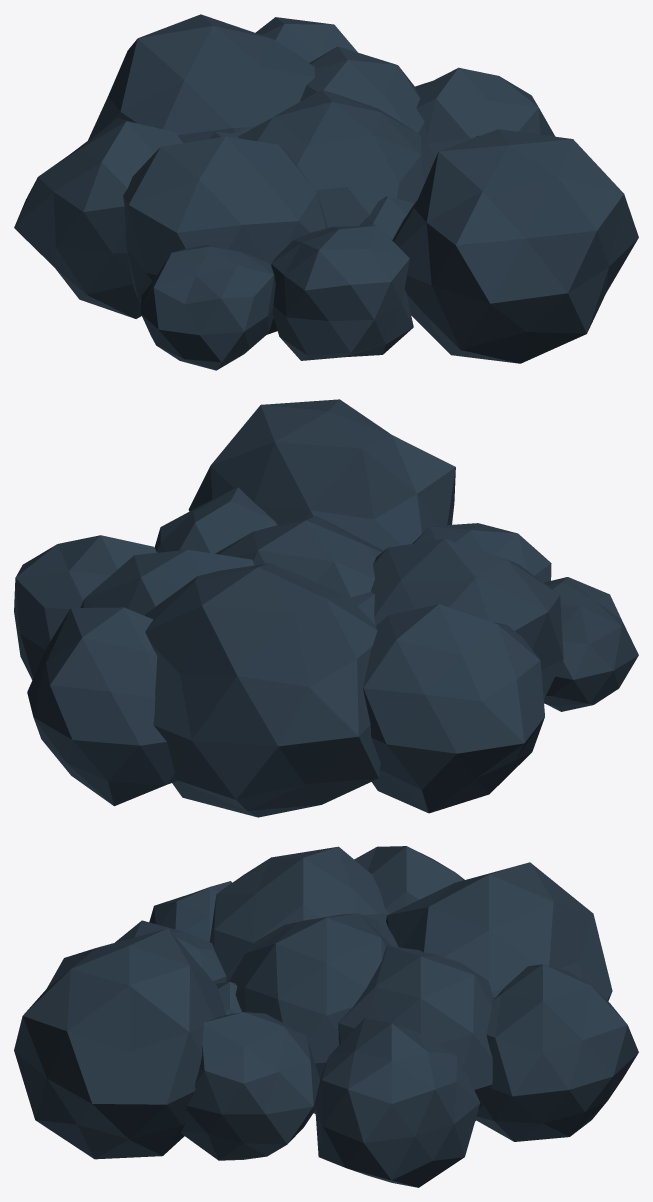
Rendered from BasaltIsland.fbx.
3 views of the same model, one above another, from view 1: azimuth 30°, elevation 25°; view 2: azimuth 150°, elevation 25°; view 3: azimuth 270°, elevation 25° (orthographic). The views are drawn at different scales.
Visible parts, largest first — view 1: Weathered basalt.036, Weathered basalt.030, Weathered basalt.032, Weathered basalt.035, Weathered basalt.033, Weathered basalt.026, Weathered basalt.038, Weathered basalt.034, Weathered basalt.029, Weathered basalt.037, Weathered basalt.028; view 2: Weathered basalt.032, Weathered basalt.035, Weathered basalt.036, Weathered basalt.037, Weathered basalt.030, Weathered basalt.034, Weathered basalt.038, Weathered basalt.026, Weathered basalt.029, Weathered basalt.031, Weathered basalt.033; view 3: Weathered basalt.036, Weathered basalt.034, Weathered basalt.037, Weathered basalt.032, Weathered basalt.031, Weathered basalt.026, Weathered basalt.029, Weathered basalt.030, Weathered basalt.035, Weathered basalt.038, Weathered basalt.033, Weathered basalt.028.
Boxes of the visible parts, <box> form: Weathered basalt.036: <box>392,129,638,363</box>; Weathered basalt.030: <box>123,136,327,334</box>; Weathered basalt.032: <box>88,14,315,142</box>; Weathered basalt.035: <box>14,118,183,318</box>; Weathered basalt.033: <box>271,225,413,360</box>; Weathered basalt.026: <box>238,89,435,227</box>; Weathered basalt.038: <box>141,244,275,370</box>; Weathered basalt.034: <box>415,67,555,157</box>; Weathered basalt.029: <box>300,46,428,146</box>; Weathered basalt.037: <box>255,17,357,62</box>; Weathered basalt.028: <box>359,196,415,239</box>; Weathered basalt.032: <box>145,563,380,817</box>; Weathered basalt.035: <box>363,604,544,813</box>; Weathered basalt.036: <box>188,399,455,550</box>; Weathered basalt.037: <box>27,607,176,806</box>; Weathered basalt.030: <box>371,539,563,699</box>; Weathered basalt.034: <box>14,535,157,679</box>; Weathered basalt.038: <box>544,577,638,711</box>; Weathered basalt.026: <box>215,515,383,597</box>; Weathered basalt.029: <box>80,549,254,615</box>; Weathered basalt.031: <box>154,487,277,553</box>; Weathered basalt.033: <box>412,523,551,582</box>; Weathered basalt.036: <box>14,928,226,1159</box>; Weathered basalt.034: <box>315,1018,480,1187</box>; Weathered basalt.037: <box>475,964,638,1141</box>; Weathered basalt.032: <box>386,862,612,1001</box>; Weathered basalt.031: <box>181,1012,319,1160</box>; Weathered basalt.026: <box>229,913,391,1113</box>; Weathered basalt.029: <box>338,946,493,1121</box>; Weathered basalt.030: <box>209,846,388,982</box>; Weathered basalt.035: <box>354,846,464,912</box>; Weathered basalt.038: <box>149,881,232,941</box>; Weathered basalt.033: <box>115,920,226,983</box>; Weathered basalt.028: <box>216,981,241,1014</box>.
Bounding box in the file's own units: 708 × 315 × 765.
